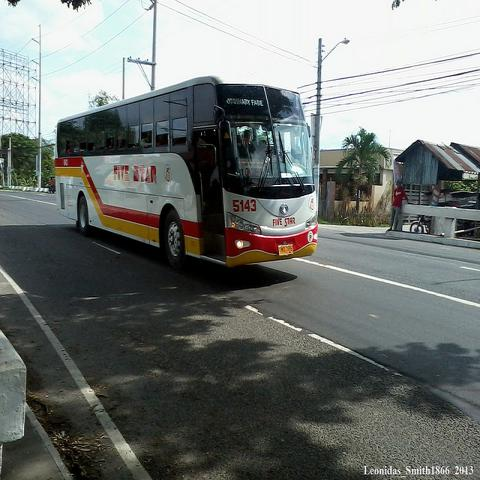bus: (54, 77, 320, 272)
motorcycle: (410, 215, 431, 233)
